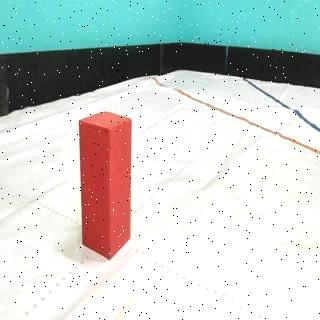redbox: (79, 110, 131, 260)
